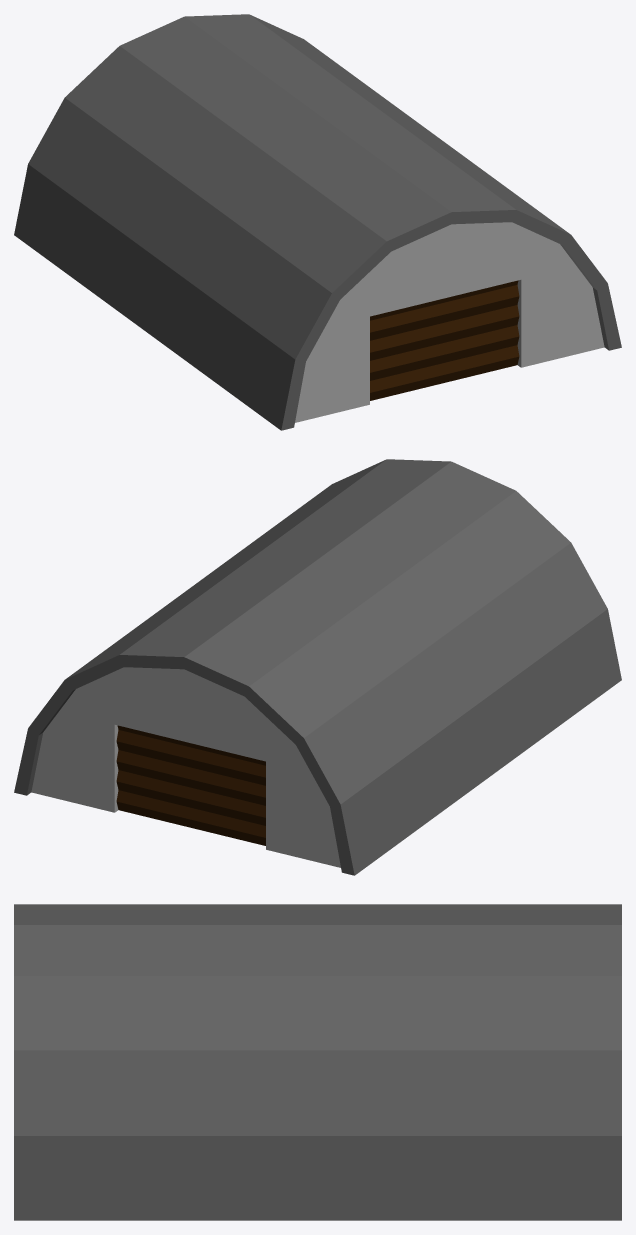
File: Factory5_1.fbx
The picture shows the model from 3 angles, top to bottom: view 1: azimuth 30°, elevation 25°; view 2: azimuth 150°, elevation 25°; view 3: azimuth 270°, elevation 25°; orthographic projection. The views are drawn at different scales.
Visible parts, largest first — view 1: Building2_1.009; view 2: Building2_1.009; view 3: Building2_1.009.
Boxes of the visible parts, x1,y1,x2,y2 form: Building2_1.009: (14, 14, 621, 430); Building2_1.009: (14, 459, 621, 875); Building2_1.009: (14, 904, 621, 1220).
Size of the model in its own units: 872 by 433 by 1185.
